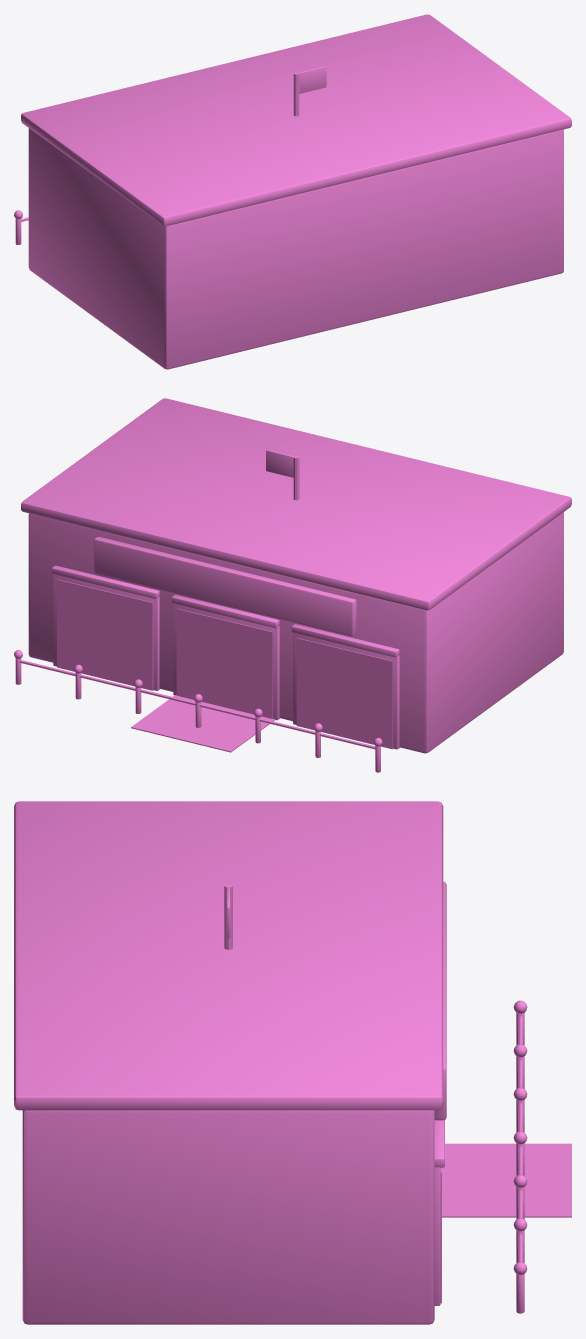
The model's file is Hub_VIPGarage.fbx.
3 views of the same model, one above another, from view 1: azimuth 30°, elevation 25°; view 2: azimuth 150°, elevation 25°; view 3: azimuth 270°, elevation 25° (orthographic). The views are drawn at different scales.
Visible parts, largest first — view 1: Paint, Body; view 2: Body, Paint; view 3: Body, Paint.
Part boxes in pixels (left/top/right/bottom): Paint: left=28, top=128, right=563, bottom=369; Body: left=14, top=14, right=571, bottom=244; Body: left=14, top=398, right=571, bottom=772; Paint: left=28, top=512, right=563, bottom=753; Body: left=14, top=801, right=571, bottom=1313; Paint: left=22, top=1110, right=434, bottom=1324.
Bounding box in the file's own units: 41 × 19 × 32.5.
Materials: 1 (1 with a texture image).
